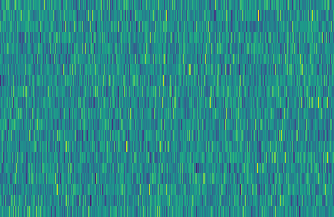signal: (152, 0, 171, 217)
